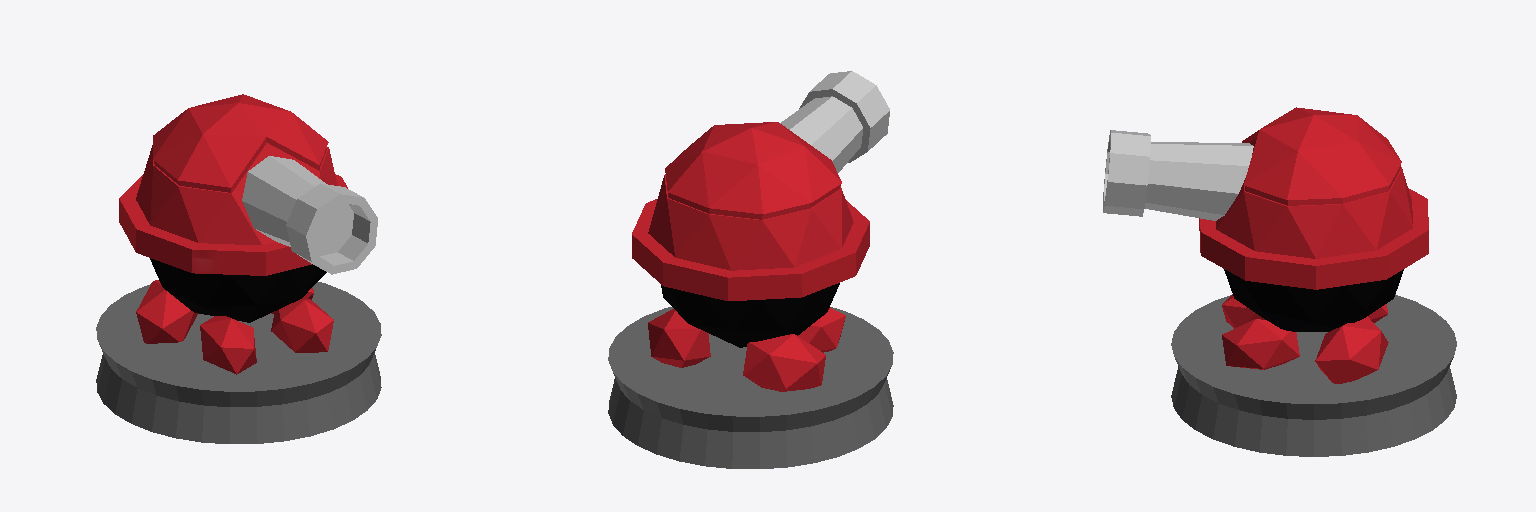
3 views of the same model, side by side, from view 1: azimuth 30°, elevation 25°; view 2: azimuth 150°, elevation 25°; view 3: azimuth 270°, elevation 25° (orthographic).
Visible parts, largest first — view 1: Cylinder, Icosphere, Icosphere.001, Icosphere.002; view 2: Icosphere, Cylinder, Icosphere.001, Icosphere.002; view 3: Icosphere, Cylinder, Icosphere.001, Icosphere.002.
Part boxes in pixels (bbox=[...]): Cylinder: bbox=[96, 282, 381, 443]; Icosphere: bbox=[119, 94, 347, 275]; Icosphere.001: bbox=[136, 258, 333, 374]; Icosphere.002: bbox=[242, 156, 377, 274]; Icosphere: bbox=[632, 122, 869, 300]; Cylinder: bbox=[608, 307, 893, 468]; Icosphere.001: bbox=[648, 283, 845, 391]; Icosphere.002: bbox=[780, 71, 889, 172]; Icosphere: bbox=[1199, 107, 1428, 289]; Cylinder: bbox=[1171, 294, 1456, 456]; Icosphere.001: bbox=[1222, 269, 1403, 383]; Icosphere.002: bbox=[1103, 130, 1253, 220].
Bounding box in the file's own units: 1.28 × 1.39 × 1.59.
4 materials, 3 textured.